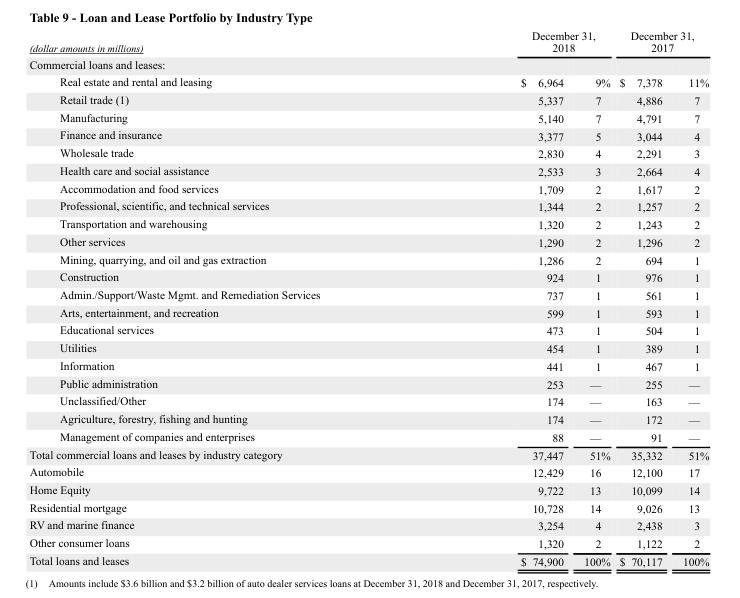table: (28, 29, 708, 567)
table column: (28, 29, 419, 567), (419, 29, 573, 567), (614, 29, 671, 567), (573, 29, 614, 567), (671, 29, 708, 567)
table column header: (28, 29, 708, 55)
table projected row header: (28, 55, 708, 72)
table row: (28, 29, 708, 55), (28, 72, 708, 90), (28, 90, 708, 108), (28, 108, 708, 126), (28, 126, 708, 144), (28, 161, 708, 179), (28, 179, 708, 197), (28, 214, 708, 232), (28, 232, 708, 250), (28, 250, 708, 268), (28, 285, 708, 303), (28, 303, 708, 321), (28, 321, 708, 339), (28, 356, 708, 374), (28, 374, 708, 392), (28, 409, 708, 427), (28, 427, 708, 445), (28, 445, 708, 463), (28, 480, 708, 498), (28, 498, 708, 516), (28, 533, 708, 551), (28, 55, 708, 72), (28, 144, 708, 161), (28, 197, 708, 214), (28, 268, 708, 285), (28, 339, 708, 356), (28, 392, 708, 409), (28, 463, 708, 480), (28, 516, 708, 533), (28, 551, 708, 567)
table spanning cell: (419, 29, 614, 55), (614, 29, 708, 55)
